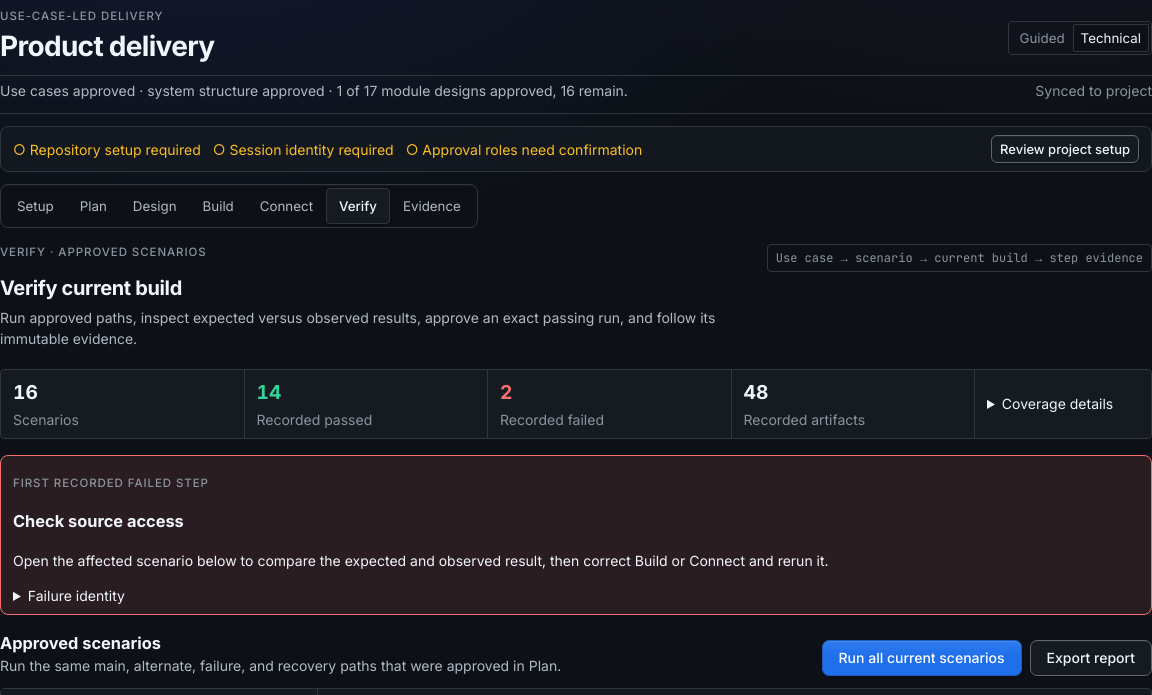
Test: complete Capabilities workflow routing — Plan, System, Connect, Verify, Evidence › renders live project evidence from canonical scenario runs instead of a placeholder note
Click the tab "Evidence".
click(432, 206)  # box [390, 188, 474, 224]
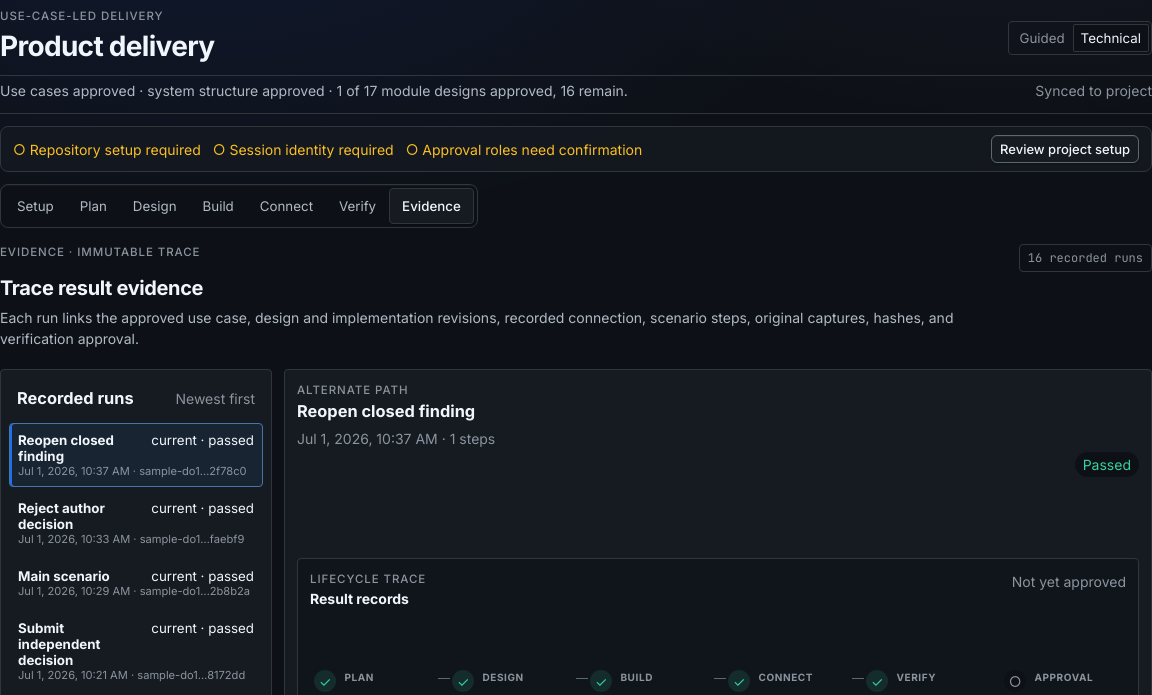
Expected: the heading "Trace result evidence" is shown, [0, 276, 203, 300]
Expected: the heading "Recorded runs" is shown, [17, 386, 134, 411]
